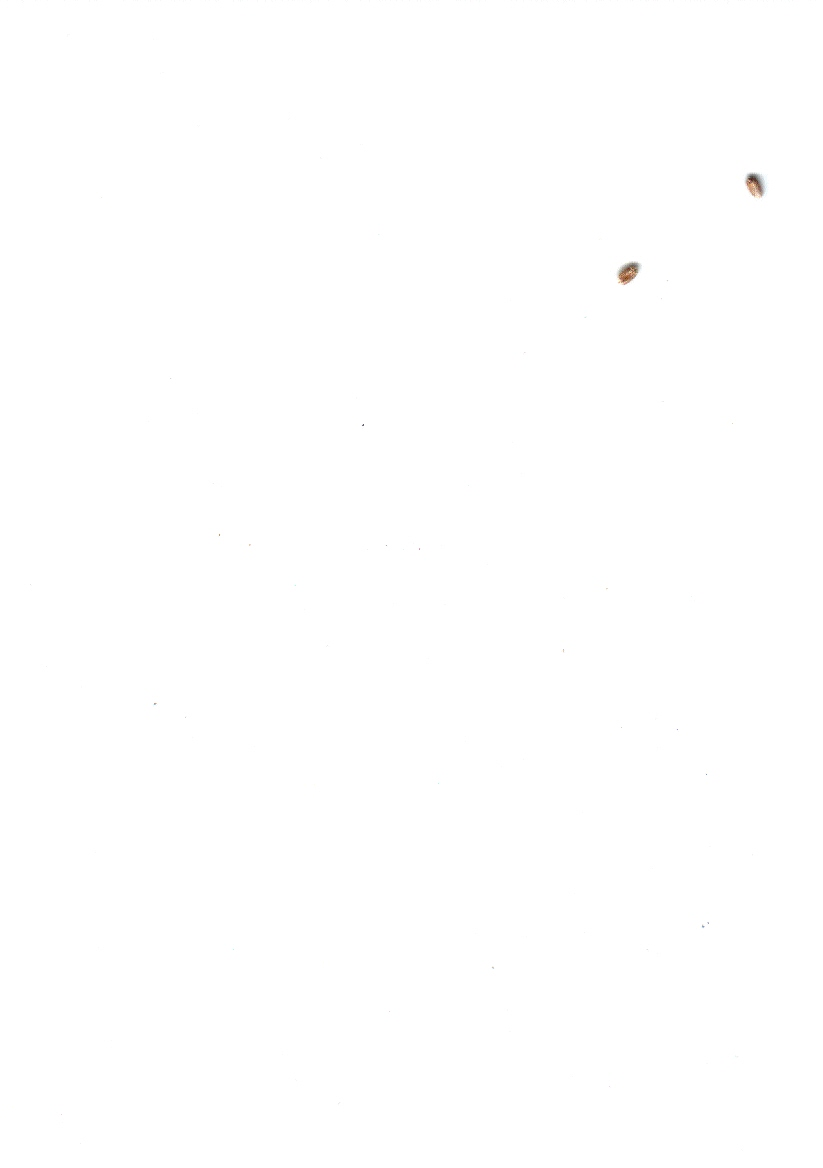grains: (734, 163, 776, 215), (614, 250, 644, 297)
